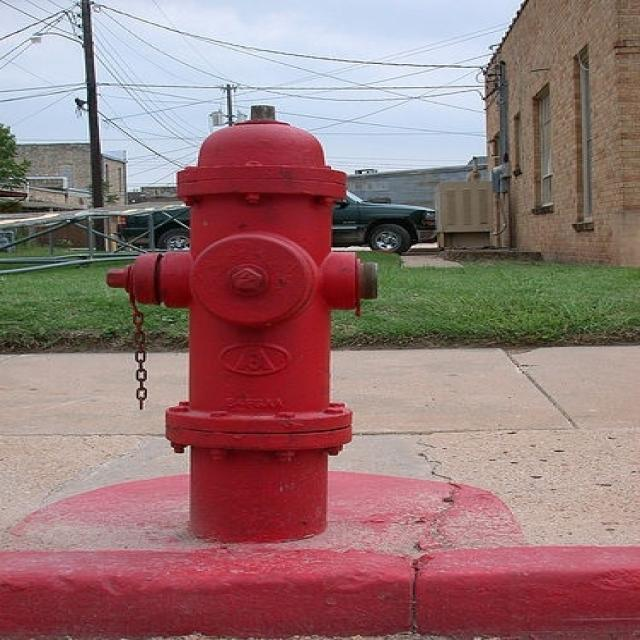fire_hydrant: (84, 67, 390, 557)
